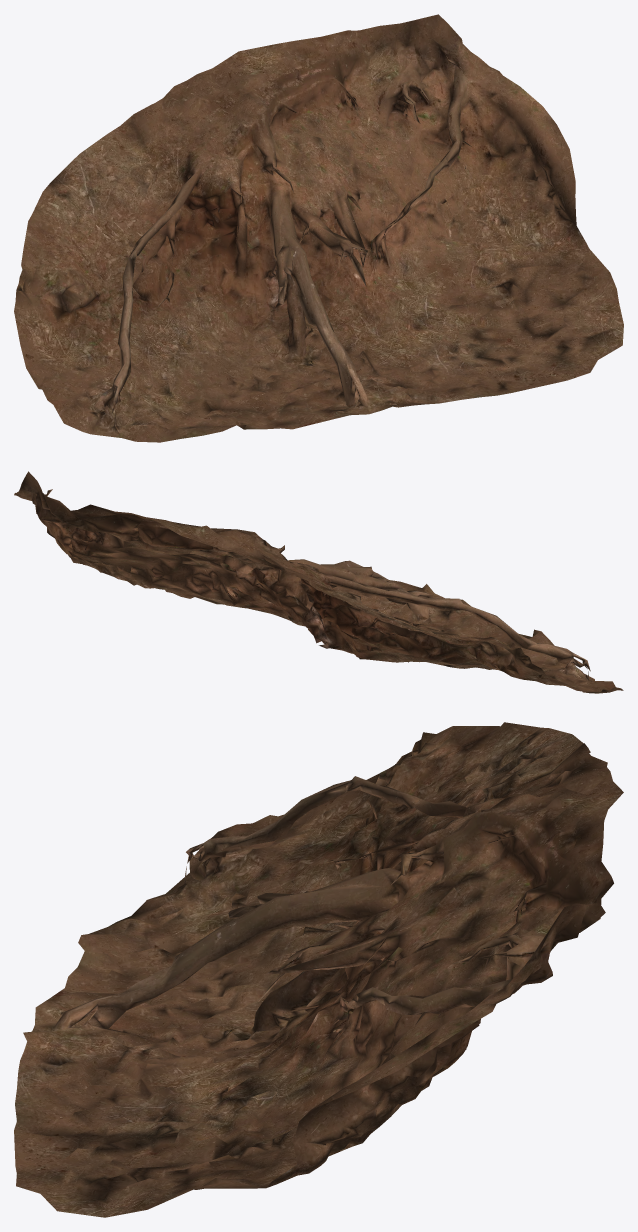
File: root_cluster_01.glb
The picture shows the model from 3 angles, top to bottom: view 1: azimuth 30°, elevation 25°; view 2: azimuth 150°, elevation 25°; view 3: azimuth 270°, elevation 25°; orthographic projection. The views are drawn at different scales.
Parts seen in each view (by area): view 1: root_cluster_01; view 2: root_cluster_01; view 3: root_cluster_01.
Part boxes in pixels (box(x1,y1,x2,y2)): root_cluster_01: box(14, 14, 623, 442); root_cluster_01: box(14, 471, 623, 693); root_cluster_01: box(14, 722, 623, 1217).
Size of the model in its own units: 4.12 by 1.51 by 2.68.
Materials: 1 (1 with a texture image).
